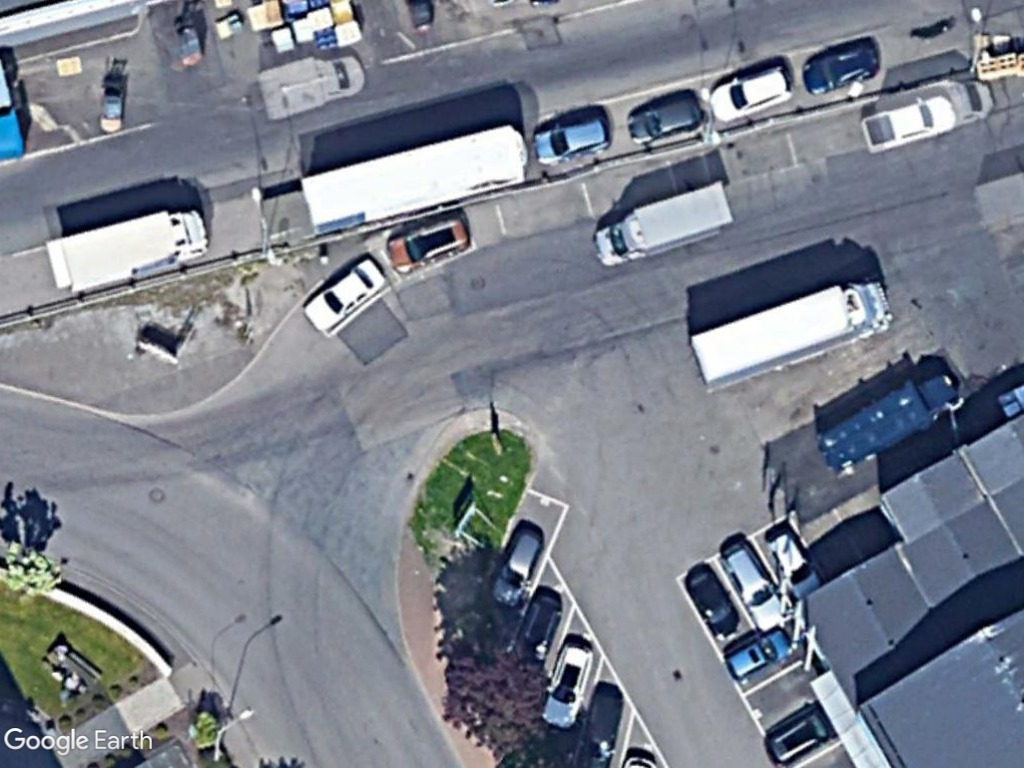car: (717, 534, 797, 630), (302, 252, 394, 333), (534, 634, 599, 737), (702, 57, 801, 124), (384, 210, 479, 277), (676, 558, 747, 641), (486, 517, 549, 610), (715, 614, 800, 682), (794, 40, 886, 100), (522, 110, 609, 173), (764, 520, 828, 604), (620, 91, 709, 147)
truck: (678, 279, 893, 392), (38, 202, 219, 302), (818, 365, 976, 475), (586, 173, 735, 273)
